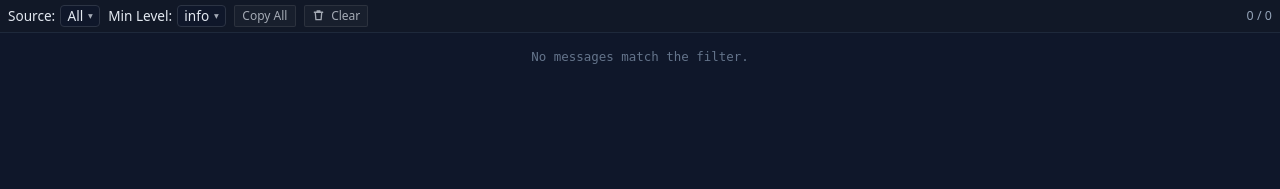
Test case: SystemMessagesPanel minimum level › persists a chosen level to settings.json
Click the dropdown labelled "info" at point(202, 16), box [177,5,226,27]
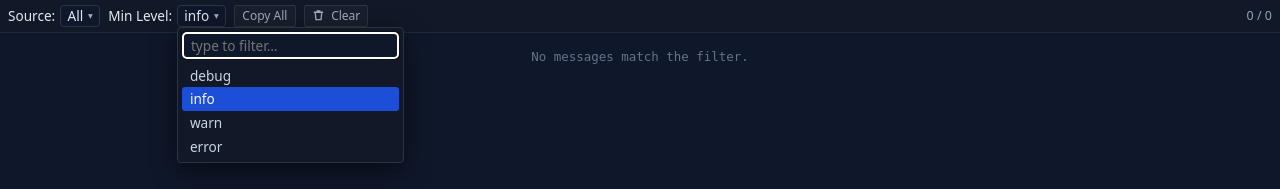
Click the option "warn" at point(206, 123), box [190,113,222,132]
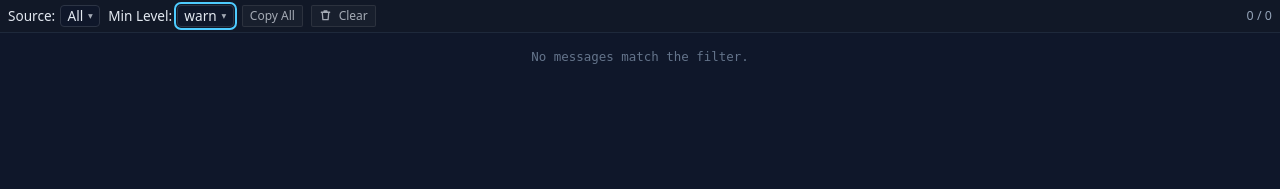
expect the text "warn" is shown: met, box [184,6,217,25]
